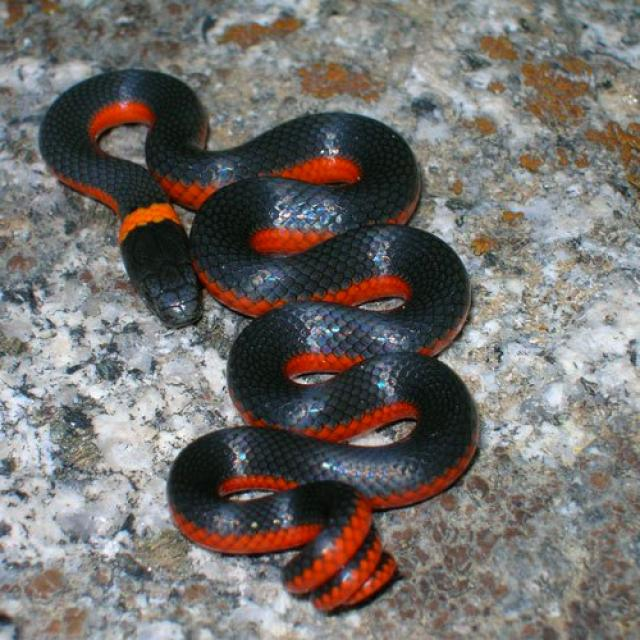snake: (42, 69, 479, 609)
